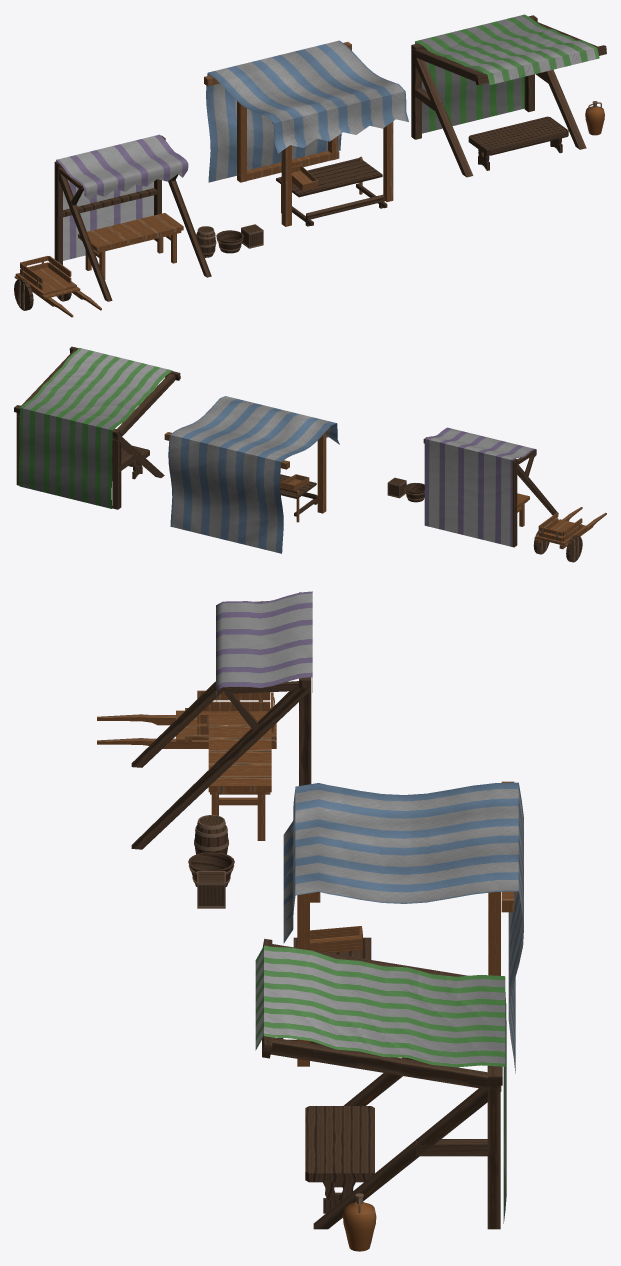
Rendered from SM_Town_marketplace_tent_asset_pack.fbx.
The picture shows the model from 3 angles, top to bottom: view 1: azimuth 30°, elevation 25°; view 2: azimuth 150°, elevation 25°; view 3: azimuth 270°, elevation 25°; orthographic projection. The views are drawn at different scales.
Parts seen in each view (by area): view 1: SM_Marketplace, SM_Marketpalce_stall_Ver_01_01, SM_Marketpalce_table_Ver_01_01, SM_Market_Box_holder_01, SM_Marketplace_cart, SM_MarketPlace_table_ver_02_04, SM_Bucket, SM_Barell, SM_MArket_Box_01, SM_Crate; view 2: SM_Marketplace, SM_Marketpalce_stall_Ver_01_01, SM_Marketplace_cart, SM_Market_Box_holder_01, SM_Bucket, SM_MArket_Box_01, SM_MarketPlace_table_ver_02_04, SM_Crate; view 3: SM_Marketplace, SM_Marketpalce_stall_Ver_01_01, SM_MarketPlace_table_ver_02_04, SM_Marketpalce_table_Ver_01_01, SM_Marketplace_cart, SM_MArket_Box_01, SM_Barell, SM_Crate, SM_Bucket.
Part boxes in pixels (bbox=[...]): SM_Marketplace: bbox=[204, 14, 606, 226]; SM_Marketpalce_stall_Ver_01_01: bbox=[54, 134, 211, 301]; SM_Marketpalce_table_Ver_01_01: bbox=[78, 213, 183, 279]; SM_Market_Box_holder_01: bbox=[276, 156, 387, 226]; SM_Marketplace_cart: bbox=[14, 256, 101, 317]; SM_MarketPlace_table_ver_02_04: bbox=[468, 116, 568, 170]; SM_Bucket: bbox=[216, 230, 243, 253]; SM_Barell: bbox=[196, 226, 216, 257]; SM_MArket_Box_01: bbox=[292, 165, 318, 190]; SM_Crate: bbox=[241, 224, 263, 248]; SM_Marketplace: bbox=[14, 346, 339, 553]; SM_Marketpalce_stall_Ver_01_01: bbox=[423, 427, 558, 547]; SM_Marketplace_cart: bbox=[533, 507, 606, 562]; SM_Market_Box_holder_01: bbox=[280, 474, 317, 522]; SM_Bucket: bbox=[404, 483, 424, 502]; SM_MArket_Box_01: bbox=[280, 474, 309, 491]; SM_MarketPlace_table_ver_02_04: bbox=[112, 445, 149, 479]; SM_Crate: bbox=[387, 477, 406, 498]; SM_Marketplace: bbox=[255, 781, 523, 1251]; SM_Marketpalce_stall_Ver_01_01: bbox=[131, 591, 312, 849]; SM_MarketPlace_table_ver_02_04: bbox=[305, 1106, 374, 1213]; SM_Marketpalce_table_Ver_01_01: bbox=[208, 714, 271, 840]; SM_Marketplace_cart: bbox=[97, 690, 276, 748]; SM_MArket_Box_01: bbox=[310, 926, 362, 952]; SM_Barell: bbox=[194, 815, 228, 854]; SM_Crate: bbox=[197, 871, 225, 908]; SM_Bucket: bbox=[188, 852, 234, 886].
Bounding box in the file's own units: 1767 × 333 × 627.
